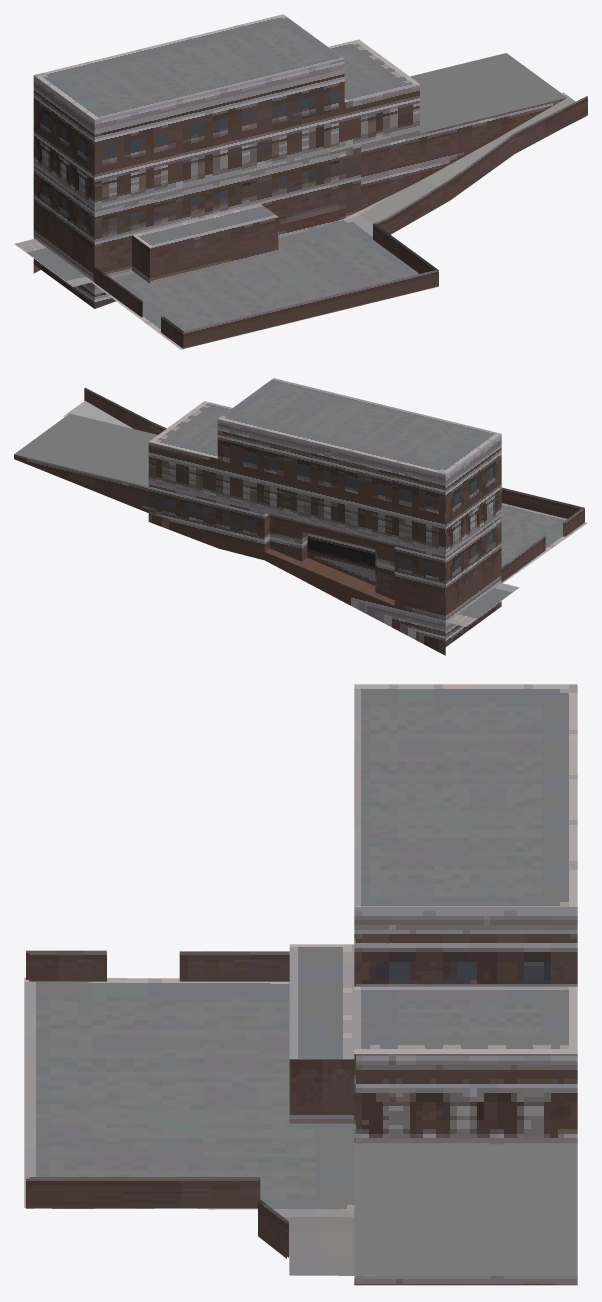
Rendered from loda25.obj.
3 views of the same model, one above another, from view 1: azimuth 30°, elevation 25°; view 2: azimuth 150°, elevation 25°; view 3: azimuth 270°, elevation 25° (orthographic). The views are drawn at different scales.
Visible parts, largest first — view 1: LODA25; view 2: LODA25; view 3: LODA25.
Part boxes in pixels (x1=…): LODA25: x1=14, y1=14, x2=587, y2=349; LODA25: x1=14, y1=378, x2=587, y2=655; LODA25: x1=24, y1=684, x2=577, y2=1285.
Bounding box in the file's own units: 135 × 51.67 × 71.45.
4 materials, 4 textured.
